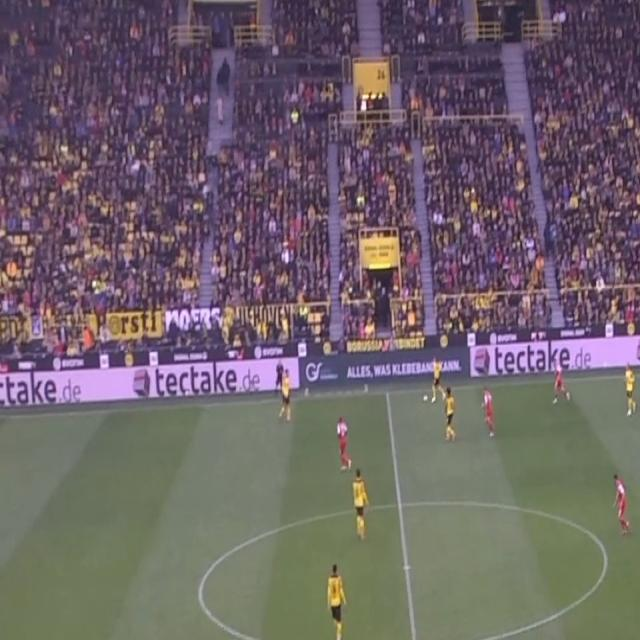ball: (422, 394, 428, 403)
